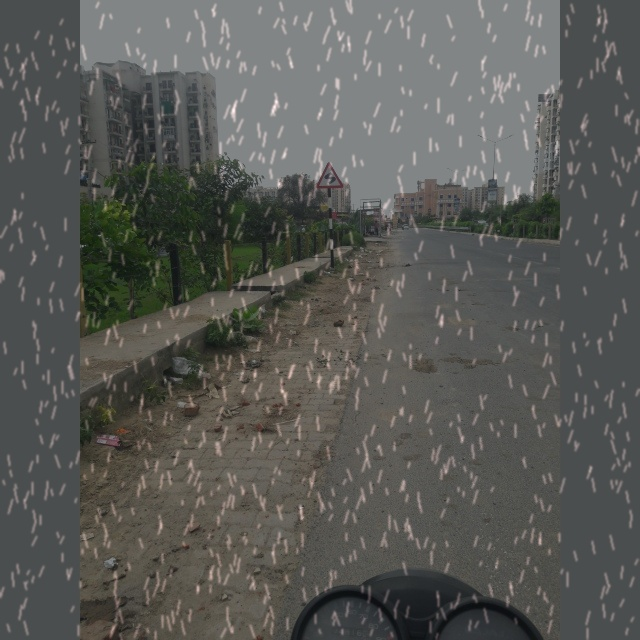Left_Reverse_Bend: (315, 157, 348, 193)
